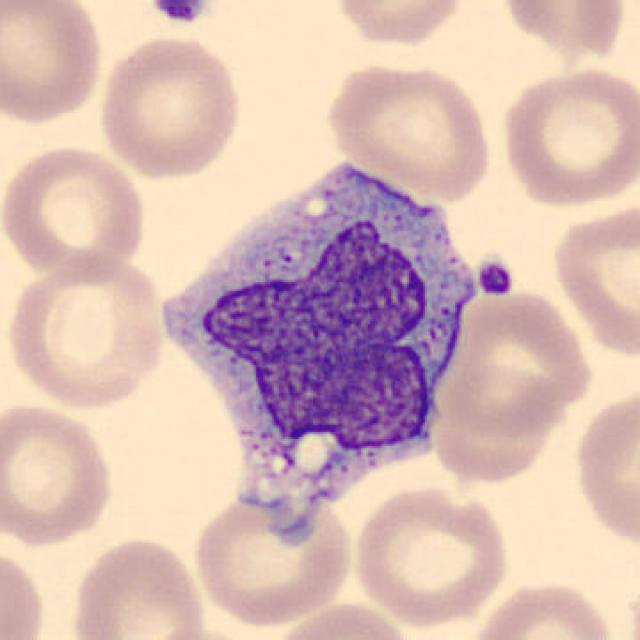Monocyte: (144, 143, 482, 536)
Platelets: (475, 254, 517, 298), (147, 0, 211, 26)
RBC: (2, 250, 169, 411), (430, 286, 596, 440), (320, 58, 496, 203), (346, 482, 514, 630), (188, 486, 356, 630), (92, 32, 245, 182), (496, 62, 638, 210), (0, 141, 149, 278), (0, 398, 117, 548), (67, 532, 212, 640), (546, 198, 638, 363), (0, 0, 107, 127), (570, 382, 640, 551), (462, 576, 620, 640), (494, 0, 631, 65), (263, 597, 421, 640), (329, 0, 467, 48), (0, 543, 50, 640)
